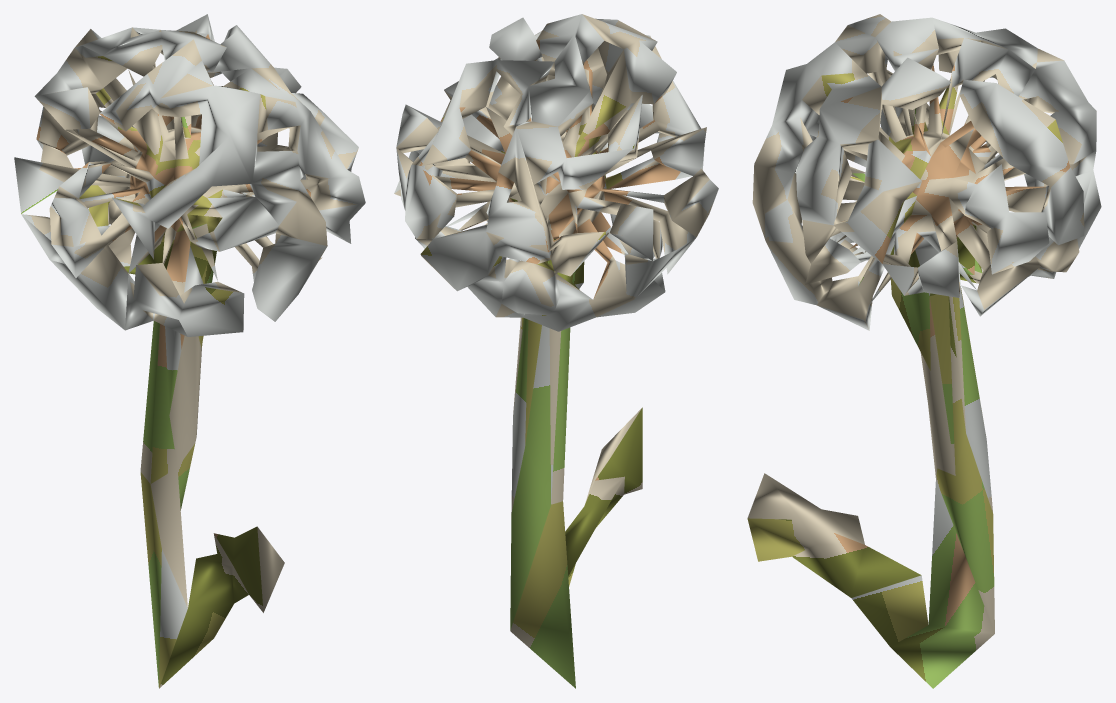
File: tree-dandelion.far.glb
3 views of the same model, side by side, from view 1: azimuth 30°, elevation 25°; view 2: azimuth 150°, elevation 25°; view 3: azimuth 270°, elevation 25° (orthographic). The views are drawn at different scales.
Visible parts, largest first — view 1: tripo_node_f74c8769-982e-4f6c-b7c8-033f0d1f4db8; view 2: tripo_node_f74c8769-982e-4f6c-b7c8-033f0d1f4db8; view 3: tripo_node_f74c8769-982e-4f6c-b7c8-033f0d1f4db8.
Part boxes in pixels (x1=…): tripo_node_f74c8769-982e-4f6c-b7c8-033f0d1f4db8: x1=14, y1=14, x2=365, y2=688; tripo_node_f74c8769-982e-4f6c-b7c8-033f0d1f4db8: x1=394, y1=14, x2=718, y2=688; tripo_node_f74c8769-982e-4f6c-b7c8-033f0d1f4db8: x1=747, y1=14, x2=1101, y2=688.
Bounding box in the file's own units: 0.463 × 0.9878 × 0.4699.
Materials: 1 (1 with a texture image).
